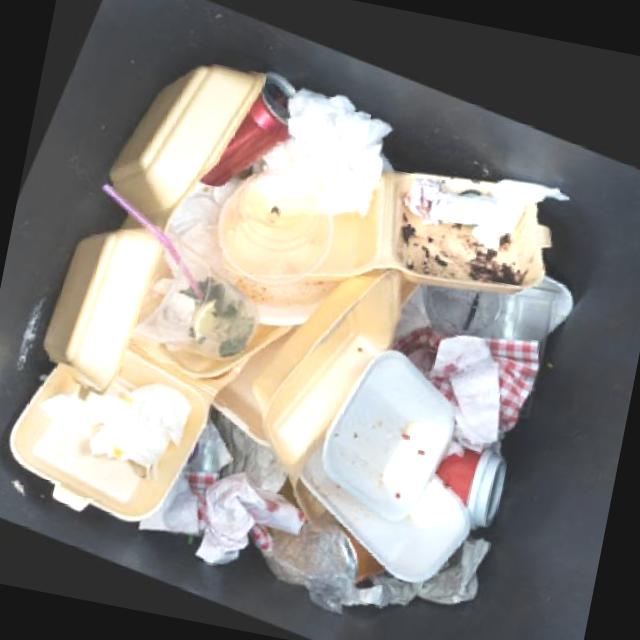hop_nhua: (125, 223, 251, 354), (210, 163, 327, 279)
nhom: (189, 66, 286, 184)
ong_hut_nhua: (92, 179, 196, 297)
tui_ni_long: (250, 472, 380, 608)
xop: (5, 327, 240, 519), (247, 261, 412, 469), (297, 157, 561, 285), (98, 61, 259, 225), (317, 340, 453, 515), (296, 438, 468, 576), (38, 225, 152, 387)
